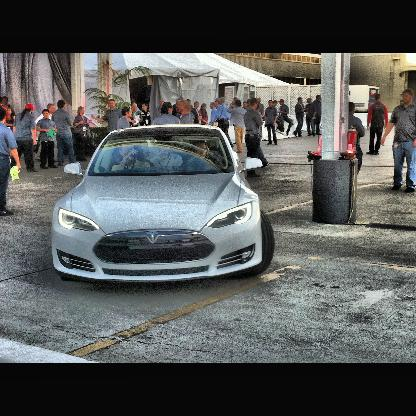Tesla Model S Sedan 2012: (51, 122, 271, 286)
